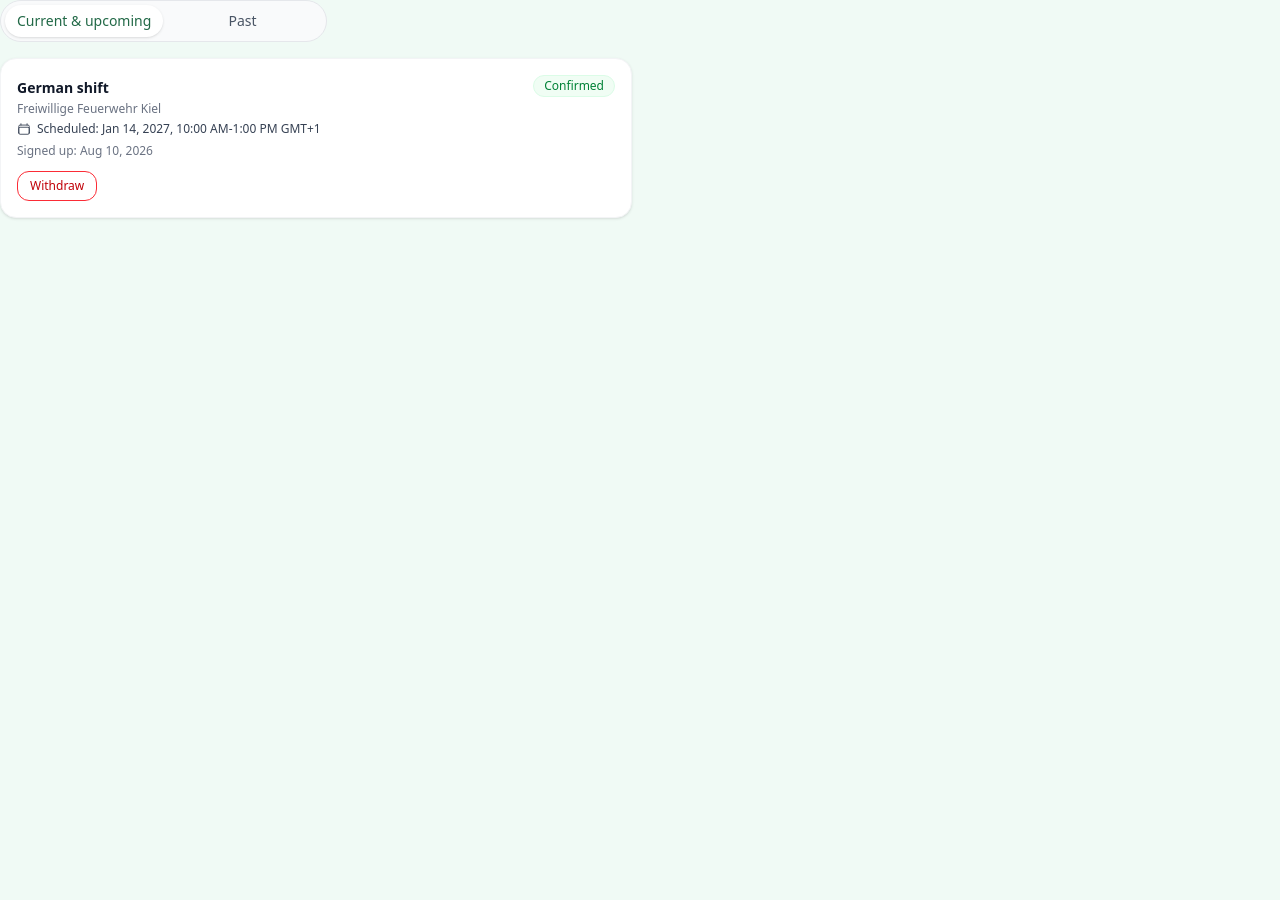
my-signups withdraw copy (#2228) › keeps the seat-release copy for a scheduled sign-up
The image size is (1280, 900).
Click the button "Withdraw" at (57, 186), box left=17, top=171, right=97, bottom=201
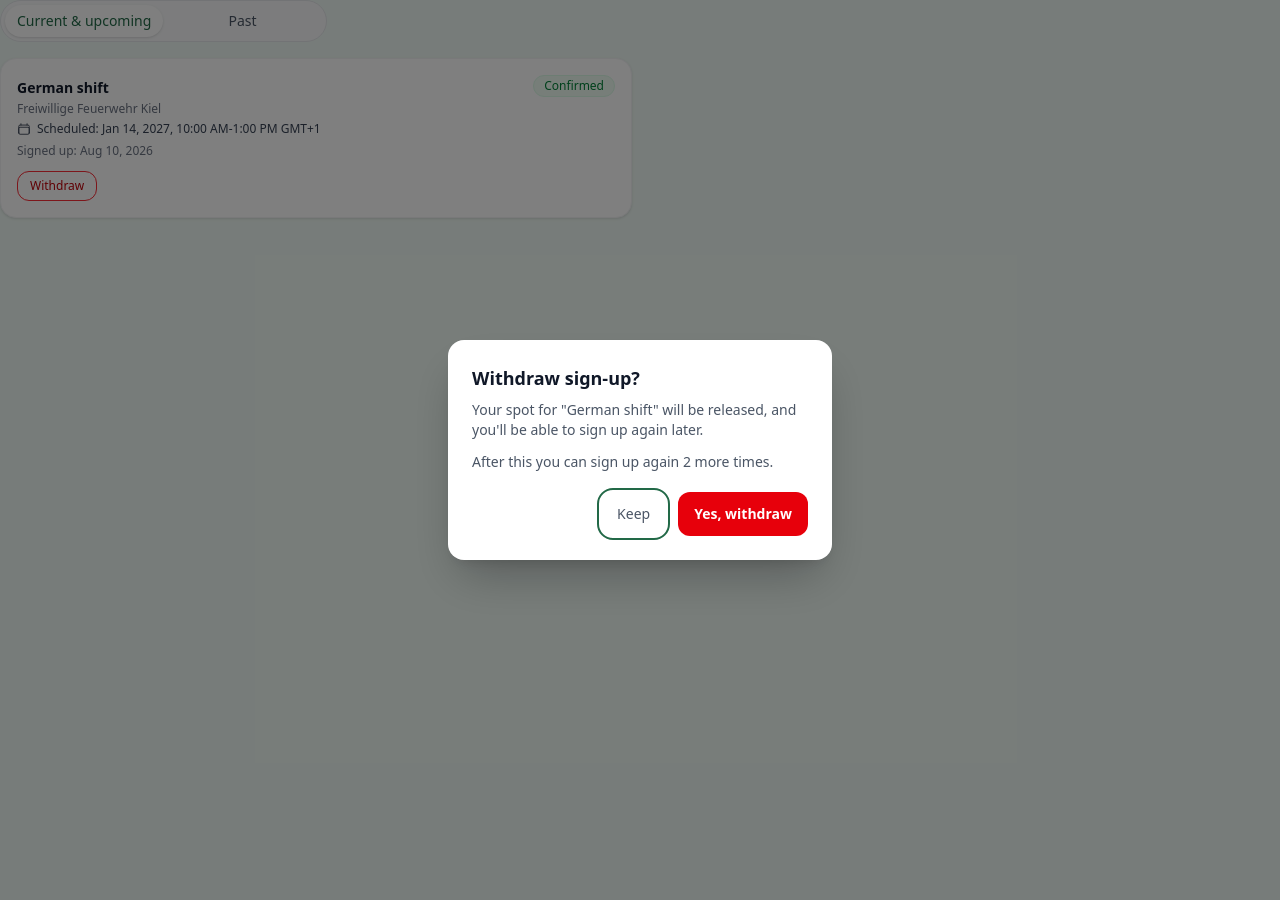
Expected: the heading "Withdraw sign-up?" is shown, left=472, top=366, right=640, bottom=390
Expected: the text "Your spot for \"German shift\" will be released, and you'll be able to sign up again later." is shown, left=472, top=400, right=796, bottom=439
